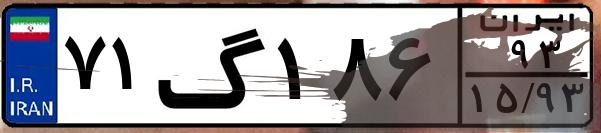1: (270, 28, 330, 110), (110, 28, 156, 98), (470, 70, 495, 125)
3: (560, 70, 590, 125), (537, 27, 568, 80)
5: (495, 70, 520, 125)
6: (385, 28, 445, 110)
7: (57, 26, 110, 100)
8: (330, 28, 385, 110)
9: (508, 27, 537, 80), (535, 70, 560, 125)
گ: (156, 12, 270, 120)
